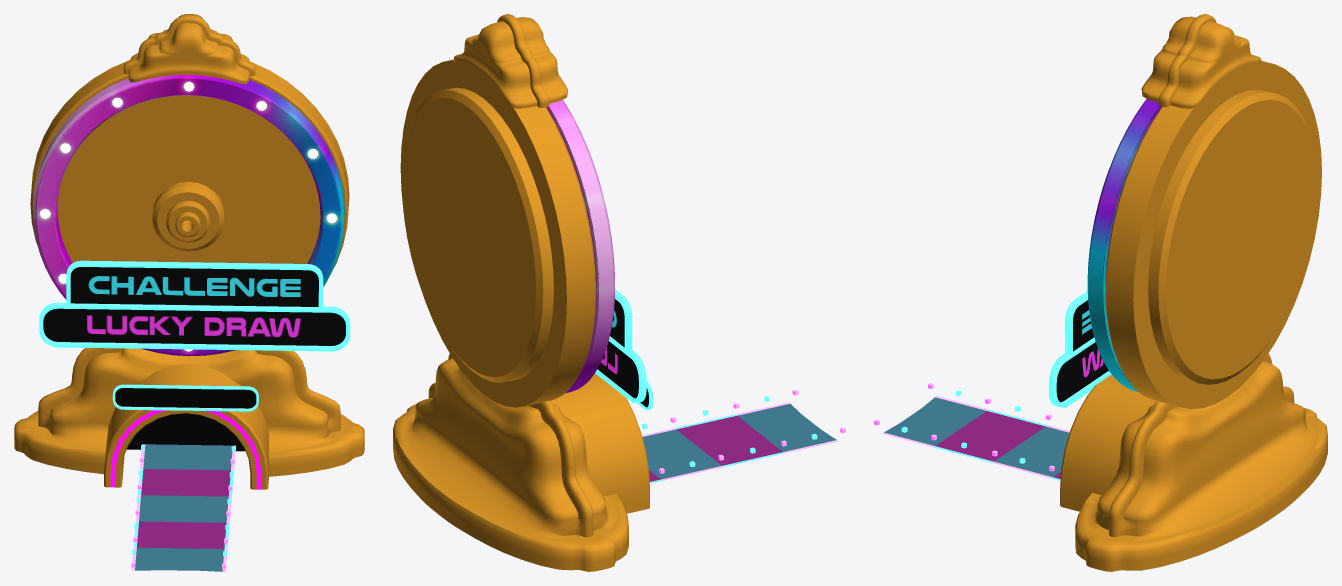
The model's file is luckyDraw.glb.
3 renders of one model, left to right at view 1: azimuth 30°, elevation 25°; view 2: azimuth 150°, elevation 25°; view 3: azimuth 270°, elevation 25°, orthographic. The views are drawn at different scales.
Visible parts, largest first — view 1: Circle.021, Circle.001, Plane.049, Circle.020, Plane.050, Cube, Circle.018, Plane.047, Plane.052, Plane.048, Plane.051; view 2: Circle.021, Circle.001, Plane.050, Cube, Circle.018, Circle.020, Plane.049, Plane.047; view 3: Circle.021, Circle.001, Plane.050, Circle.018, Cube, Circle.020, Plane.049, Plane.047.
Boxes of the visible parts, x1,y1,x2,y2 form: Circle.021: [30, 60, 349, 268]; Circle.001: [14, 348, 364, 476]; Plane.049: [43, 267, 345, 345]; Circle.020: [33, 75, 344, 356]; Plane.050: [131, 444, 235, 571]; Cube: [104, 363, 268, 489]; Circle.018: [123, 14, 255, 83]; Plane.047: [39, 302, 350, 351]; Plane.052: [115, 388, 256, 408]; Plane.048: [66, 260, 323, 308]; Plane.051: [112, 384, 258, 411]; Circle.021: [400, 59, 596, 407]; Circle.001: [393, 354, 628, 571]; Plane.050: [642, 389, 845, 483]; Cube: [551, 373, 649, 513]; Circle.018: [453, 14, 567, 108]; Circle.020: [546, 100, 615, 393]; Plane.049: [597, 299, 638, 398]; Plane.047: [595, 336, 646, 403]; Circle.021: [1105, 60, 1321, 409]; Circle.001: [1075, 353, 1327, 571]; Plane.050: [874, 383, 1069, 480]; Circle.018: [1141, 14, 1261, 108]; Cube: [1060, 374, 1156, 511]; Circle.020: [1087, 99, 1161, 392]; Plane.049: [1056, 300, 1108, 402]; Plane.047: [1049, 337, 1111, 406].
Bounding box in the file's own units: 1.23 × 1.62 × 1.38.
Materials: 10 (2 with a texture image).
